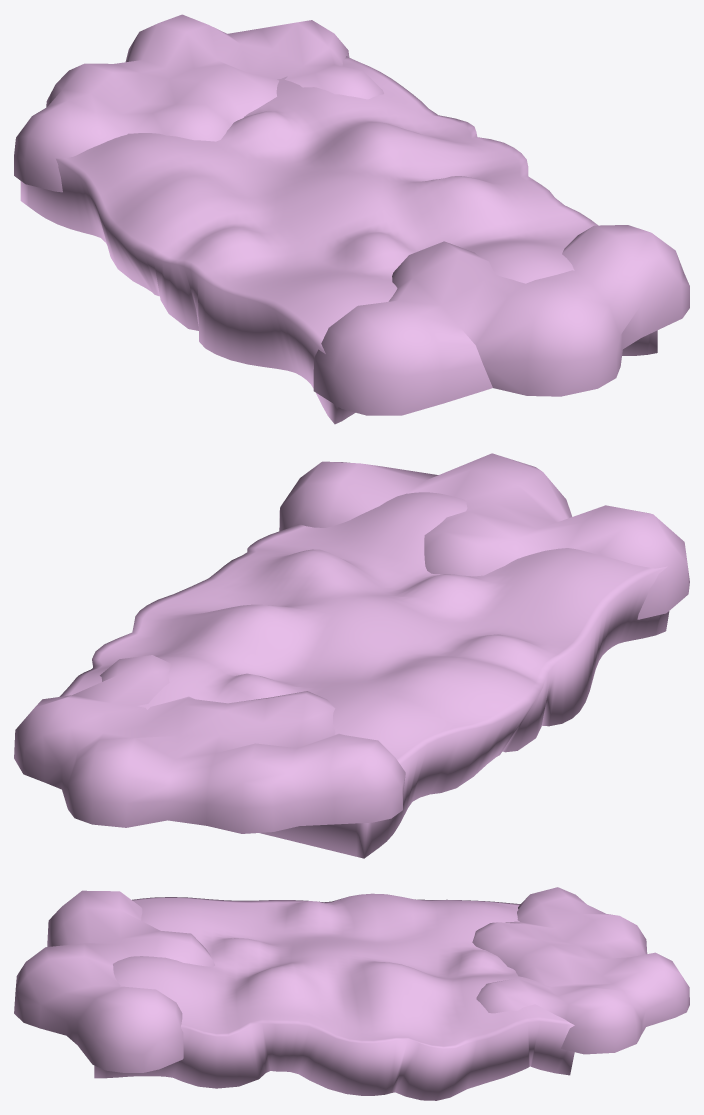
The model's file is FOAM.fbx.
3 renders of one model, top to bottom at view 1: azimuth 30°, elevation 25°; view 2: azimuth 150°, elevation 25°; view 3: azimuth 270°, elevation 25°, orthographic. The views are drawn at different scales.
Visible parts, largest first — view 1: bath_water.001; view 2: bath_water.001; view 3: bath_water.001.
Part boxes in pixels (x1=…): bath_water.001: x1=14, y1=14, x2=689, y2=424; bath_water.001: x1=14, y1=453, x2=689, y2=858; bath_water.001: x1=14, y1=887, x2=689, y2=1100.
Bounding box in the file's own units: 111 × 31.94 × 210.
